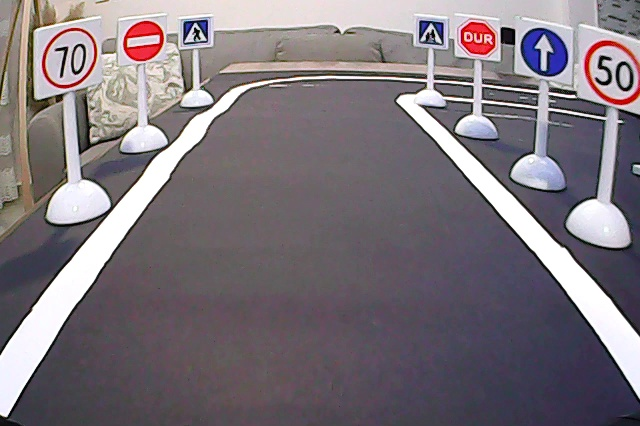do not enter: (117, 18, 169, 63)
pedestrian crossing: (180, 16, 212, 49)
school crossing: (416, 17, 448, 49)
speed limit 50: (581, 35, 640, 116)
speed limit 70: (37, 26, 102, 95)
stop sign: (456, 19, 499, 60)
